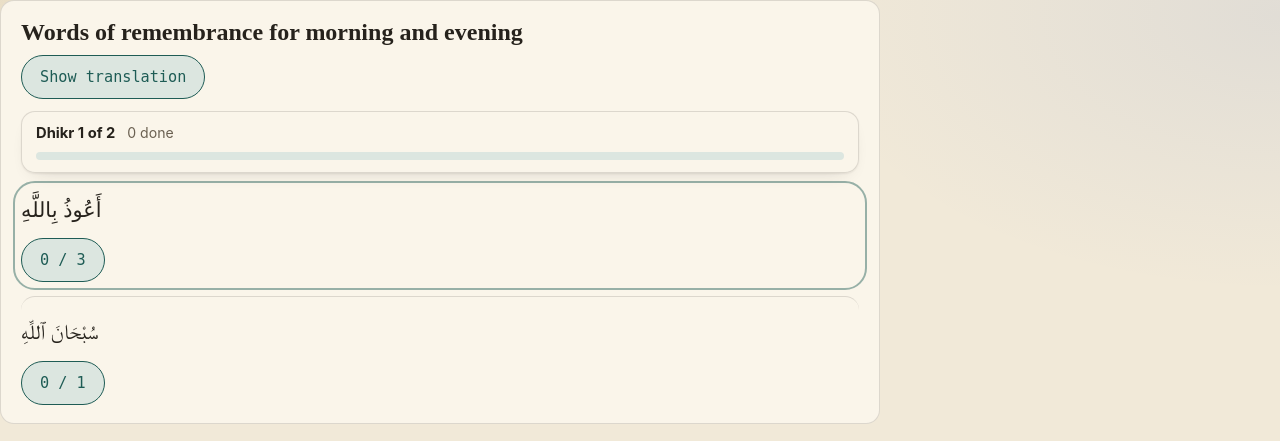
Test: AzkarList › tracks each item's tally independently
The width and height of the screenshot is (1280, 441).
What coordinates should you click on to do the following:
click the button "0 / 3"
I would click on:
 (63, 260)
Its box is [21,238,105,282].
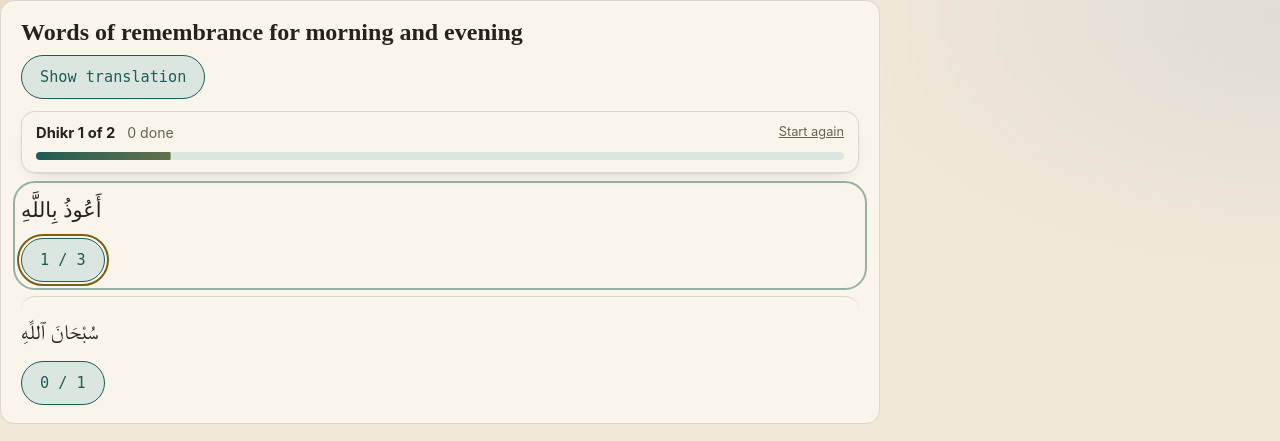
Check: the button "0 / 1" is shown, box [21,361,105,405]
Check: the button "1 / 3" is shown, box [21,238,105,282]
